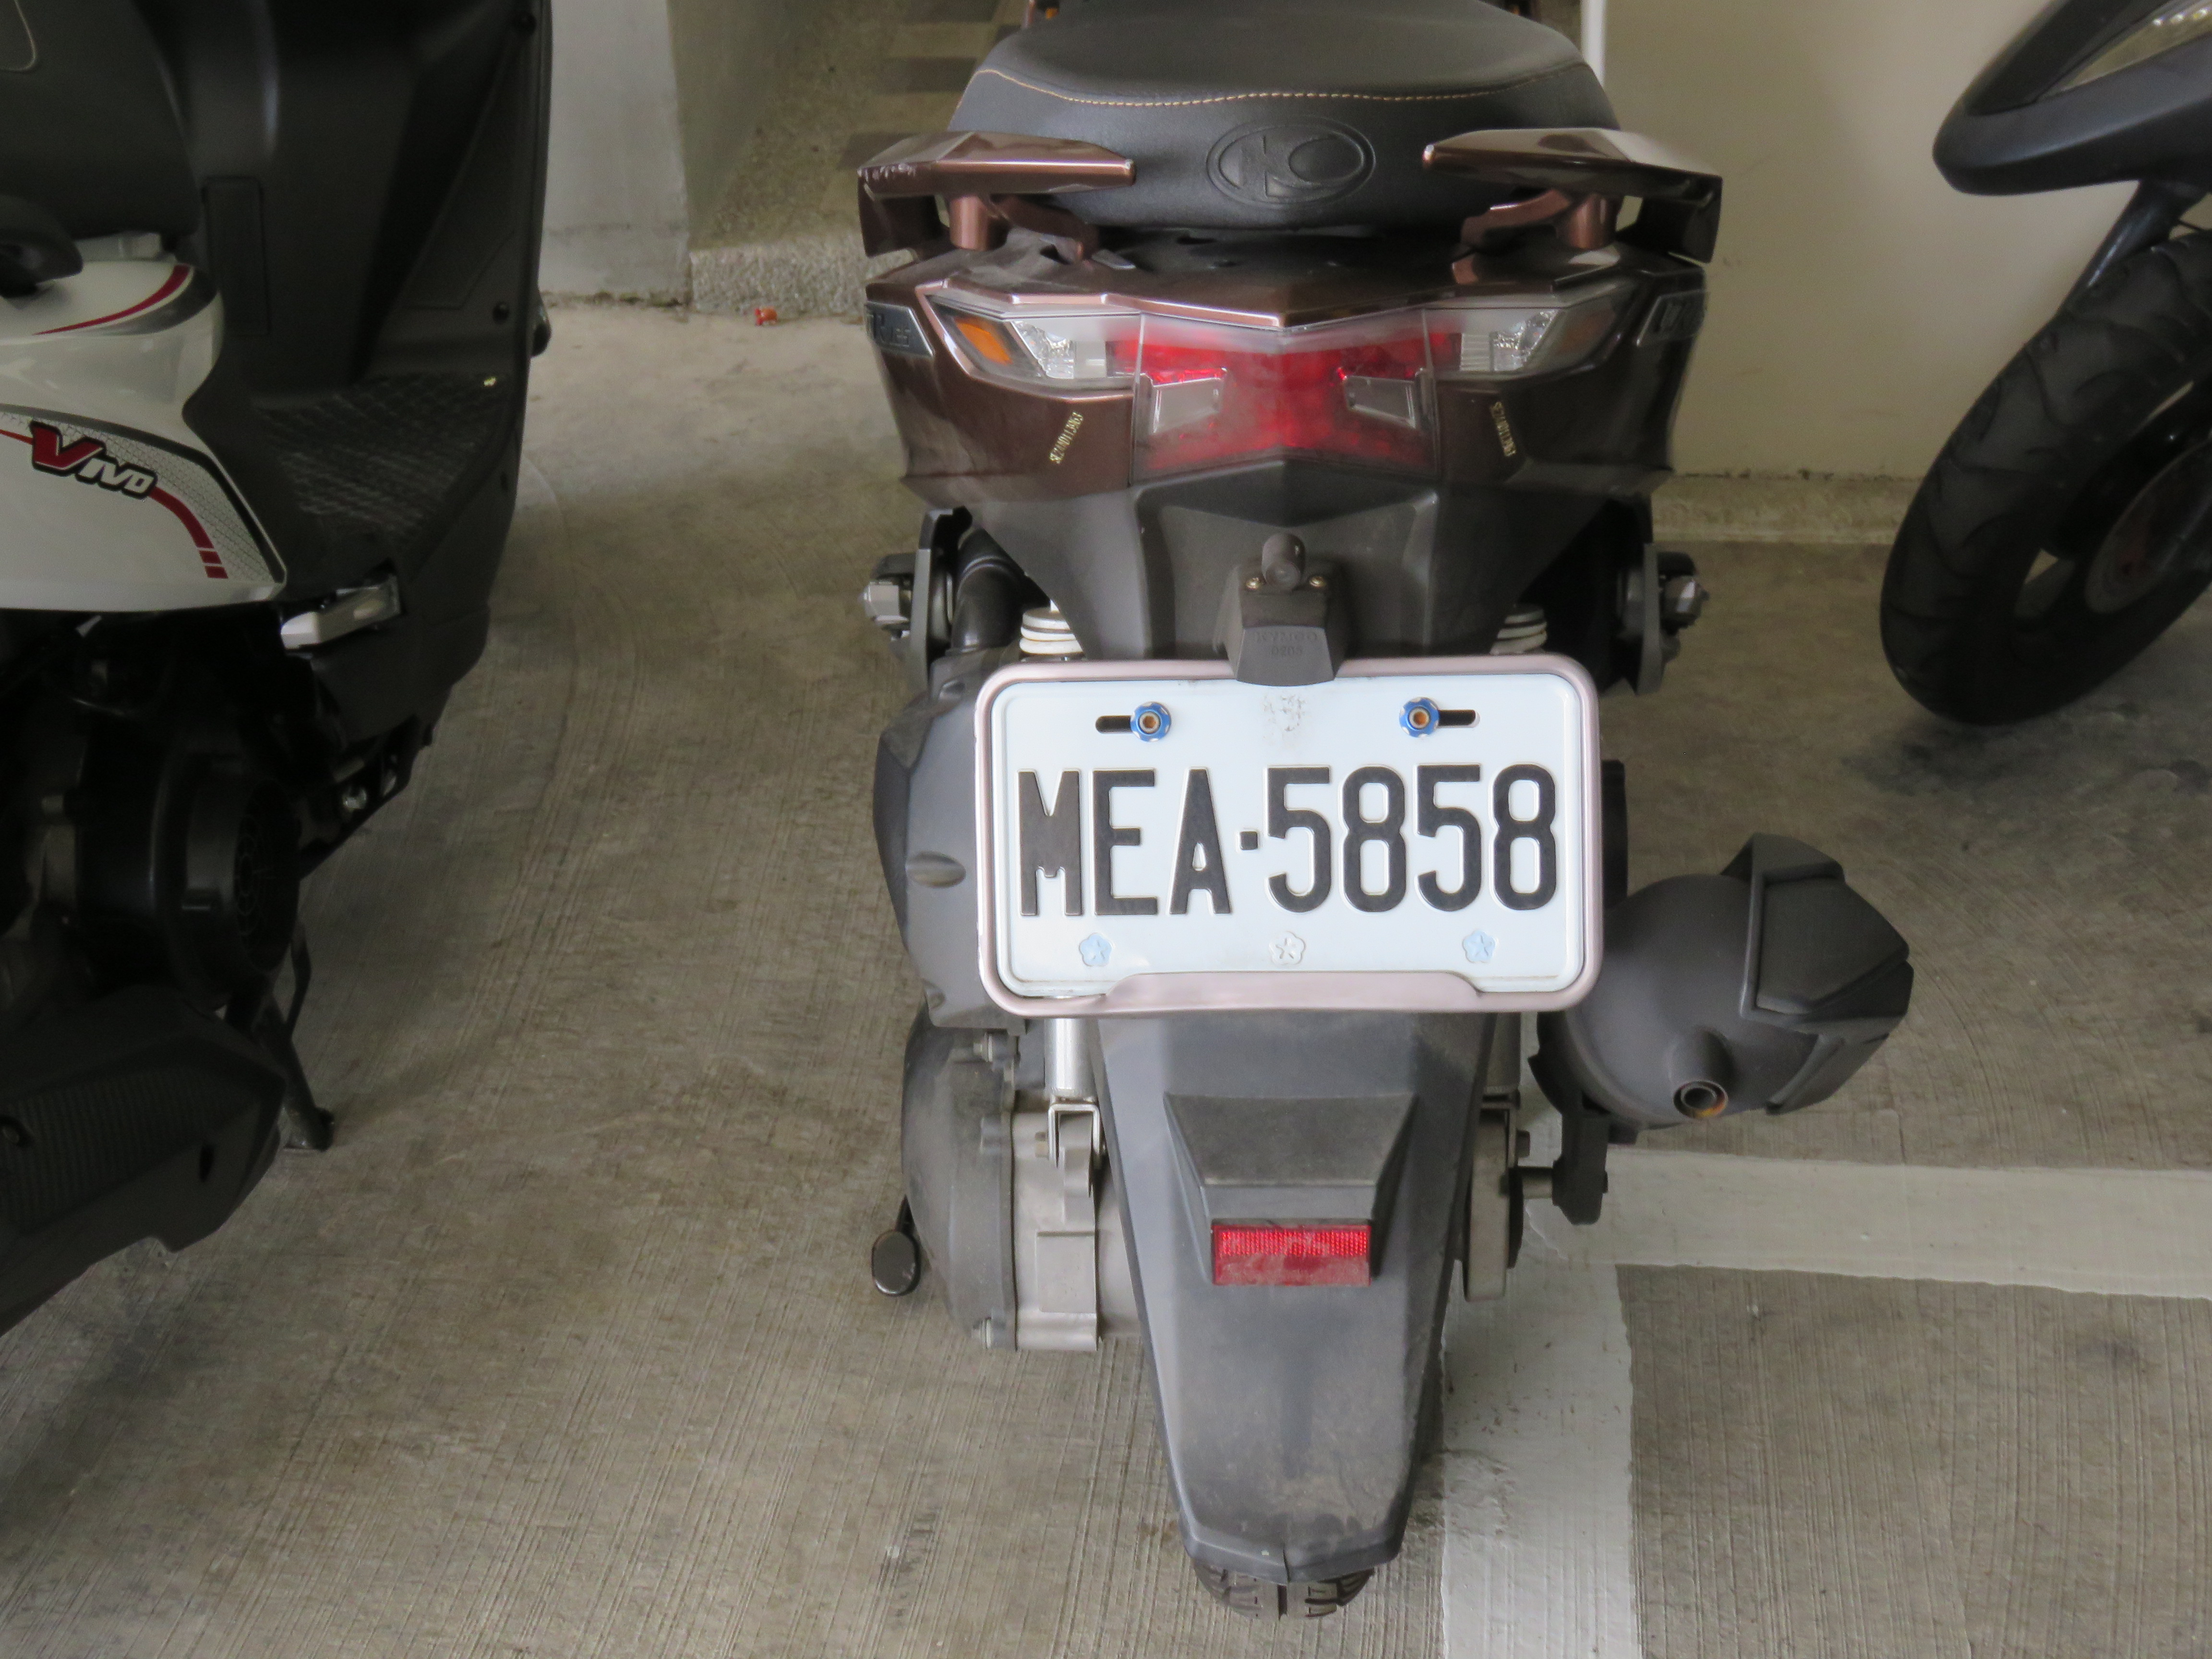car_card: (794, 765, 1336, 1056)
moto: (738, 0, 1526, 1532)
